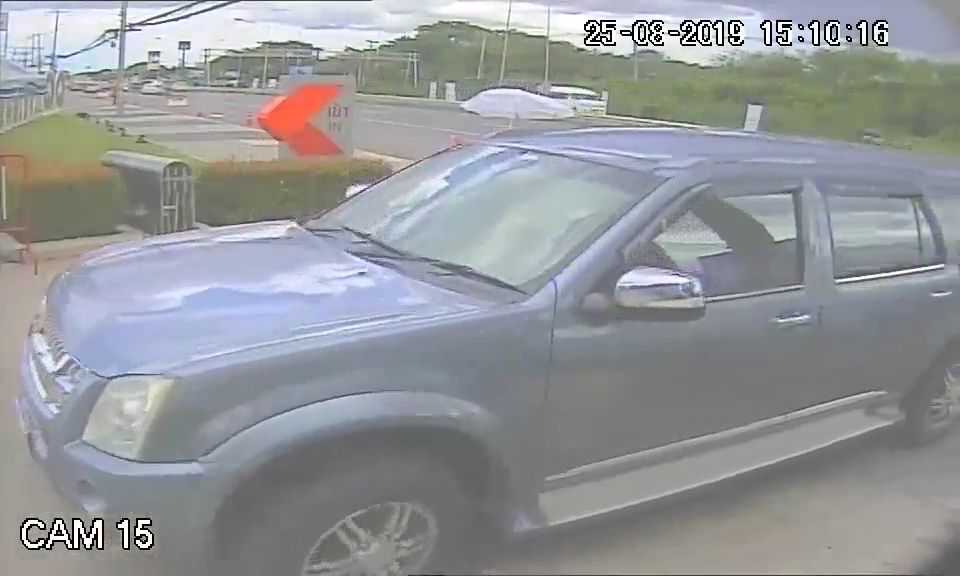pickup: (13, 112, 911, 512)
